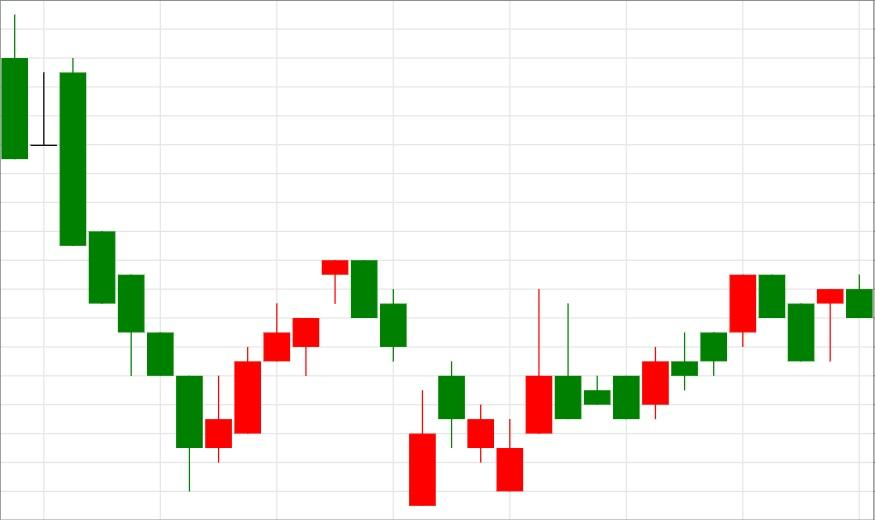bearish_engulfing_fall: (175, 260, 379, 492)
